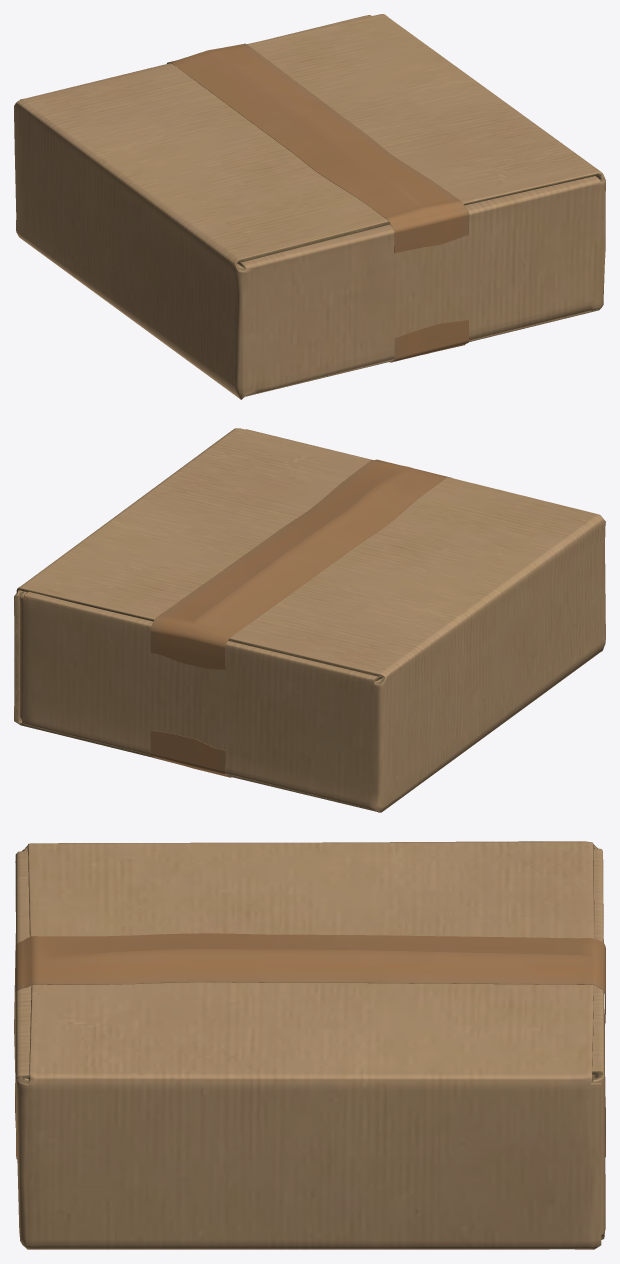
File: parcel.glb
3 renders of one model, top to bottom at view 1: azimuth 30°, elevation 25°; view 2: azimuth 150°, elevation 25°; view 3: azimuth 270°, elevation 25°, orthographic. The views are drawn at different scales.
Parts seen in each view (by area): view 1: sm_box_flat_a01_01; view 2: sm_box_flat_a01_01; view 3: sm_box_flat_a01_01.
Boxes of the visible parts, bbox=[...] form: sm_box_flat_a01_01: bbox=[14, 14, 605, 399]; sm_box_flat_a01_01: bbox=[14, 428, 605, 812]; sm_box_flat_a01_01: bbox=[14, 841, 605, 1249].
Size of the model in its own units: 0.1501 by 0.0579 by 0.16.
2 materials, 2 textured.
